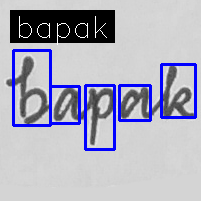a: (118, 83, 151, 122), (51, 84, 81, 125)
b: (17, 53, 49, 127)
k: (159, 63, 197, 123)
p: (85, 85, 117, 147)
